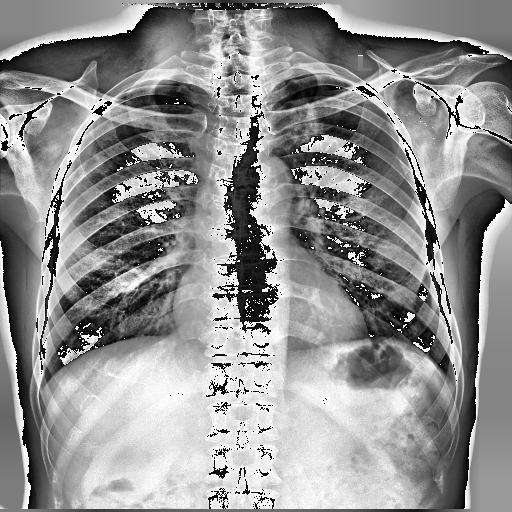13- Pulmonary fibrosis: (290, 78, 326, 150), (86, 152, 132, 192), (92, 152, 114, 176), (293, 82, 316, 100)
5- ILD: (92, 156, 112, 174)
8- Nodule-Mass: (92, 156, 112, 174)
